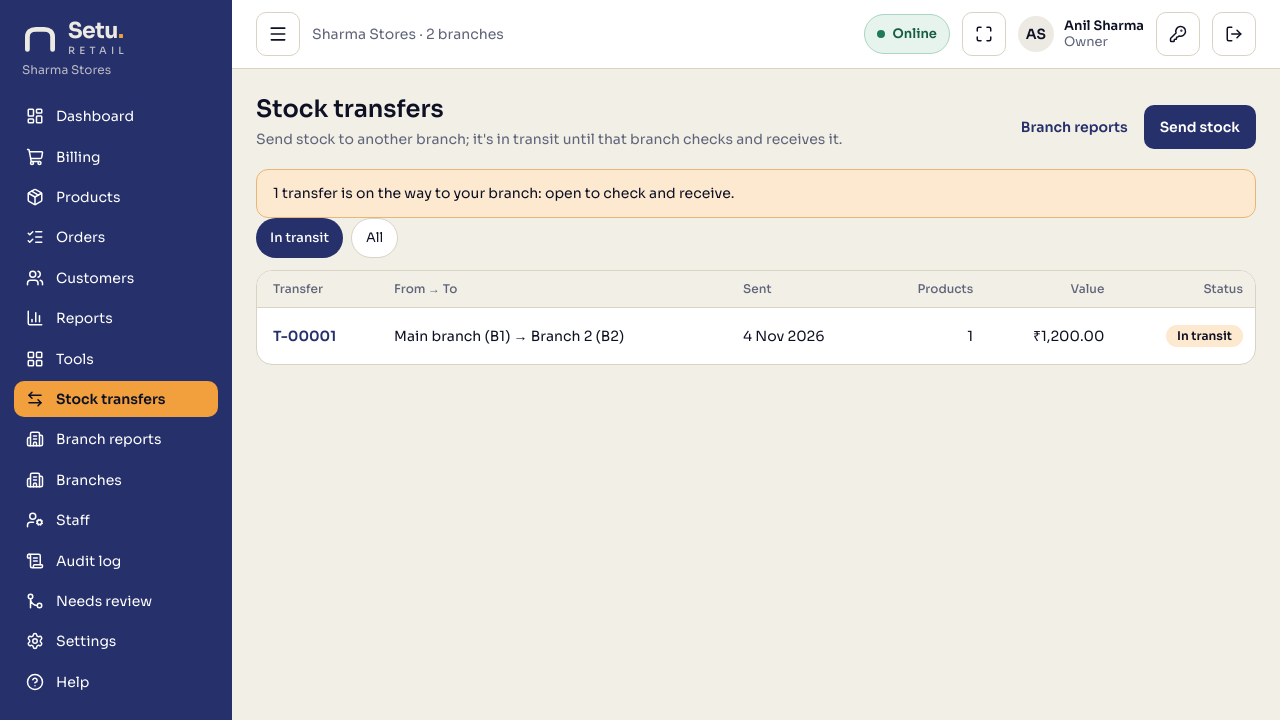
Scenario: stock transfers › receives with a short line sent back to the sender
Check: the text "1 transfer is on the way to your branch: open to check and receive." is shown, box [256,169,1256,218]
Step 1. Click the button "T-00001" → (305, 336), box [273,318,336,354]
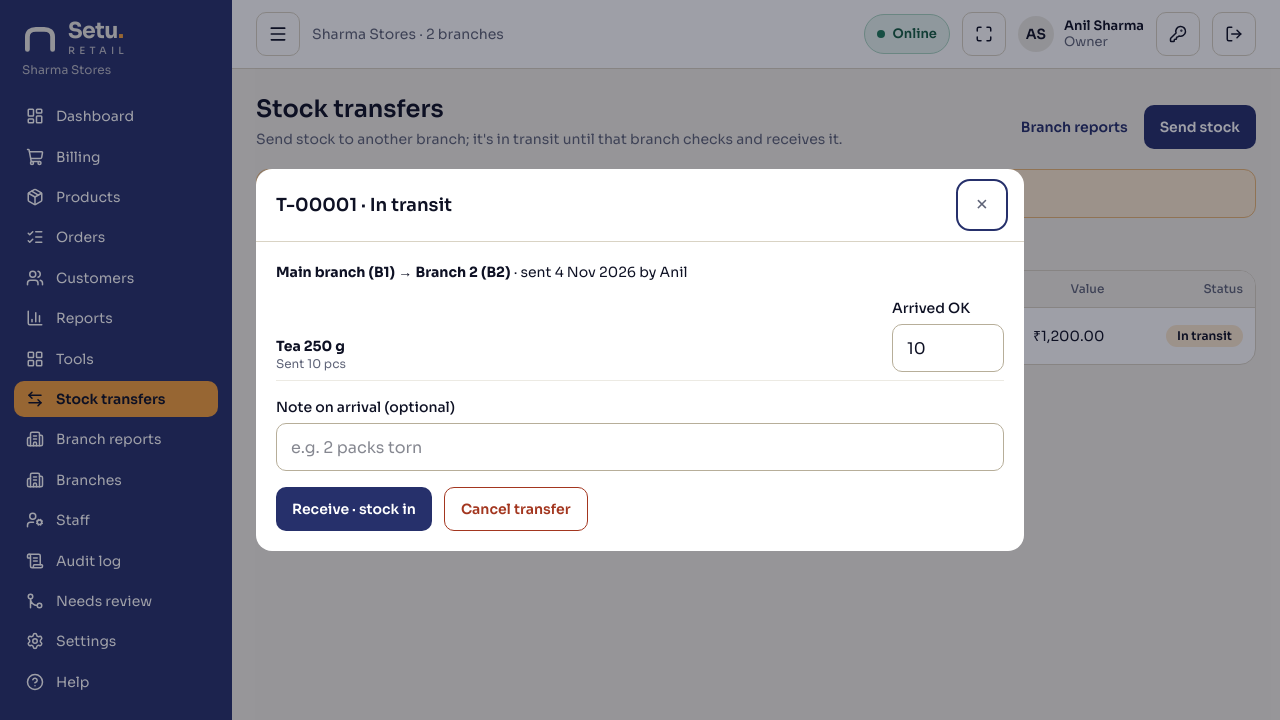
Step 2. Clear the field labelled "Arrived OK" → (948, 348), box [892,324,1004,372]
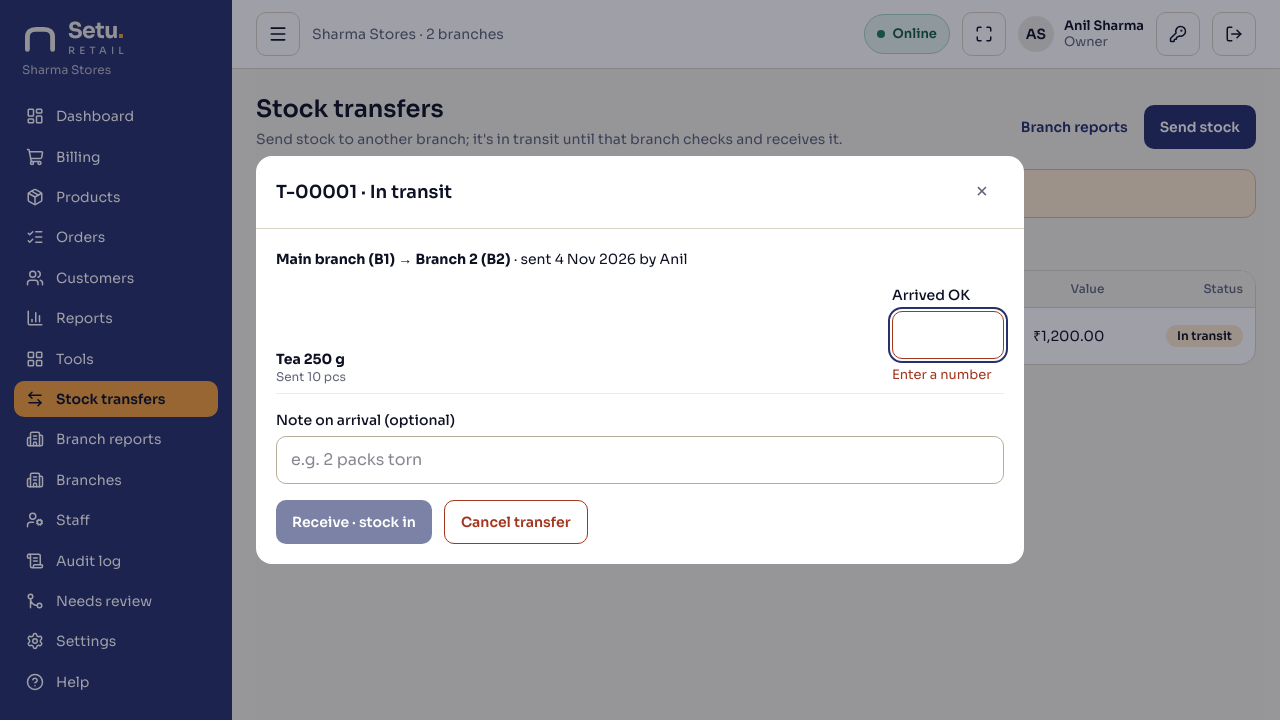
Step 3. Type "8" into the field labelled "Arrived OK" → (948, 335), box [892,311,1004,359]
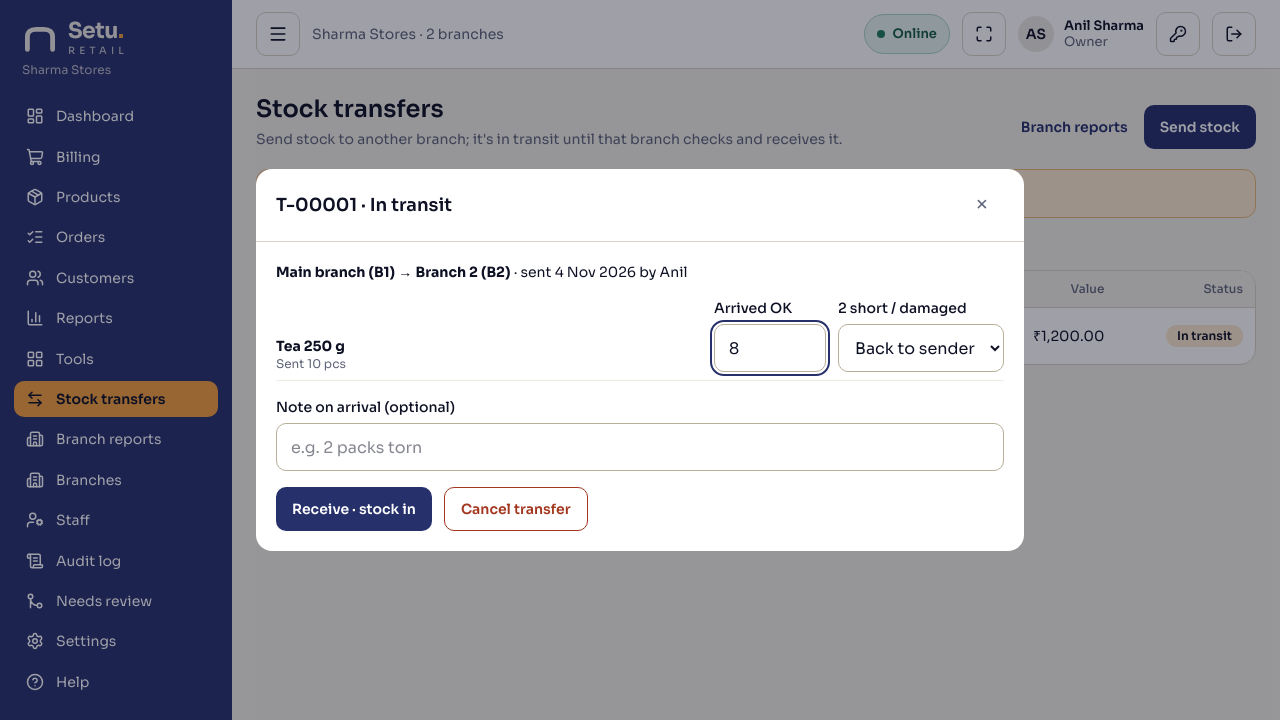
Check: the dropdown labelled "2 short / damaged" shows "Back to sender", box [838,324,1004,372]
Step 4. Click the button "Receive · stock in" → (354, 509), box [276,487,432,531]
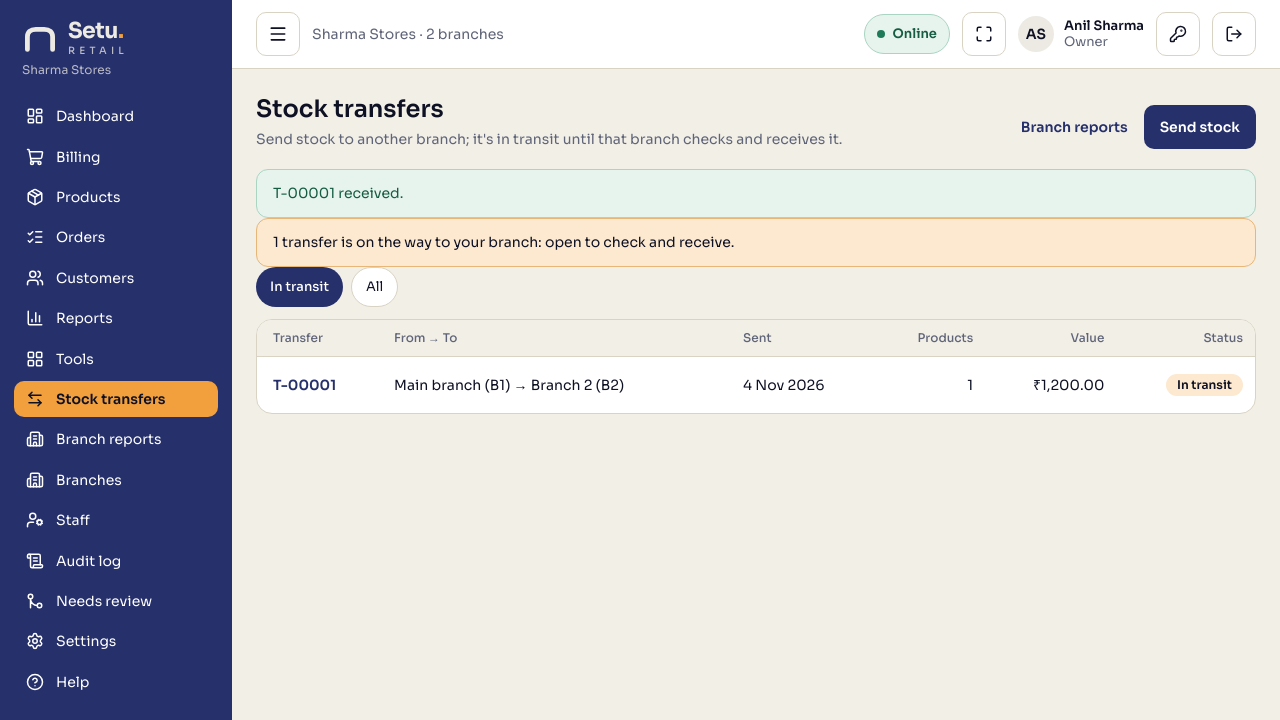
Check: the text "T-00001 received." is shown, box [256,169,1256,218]
